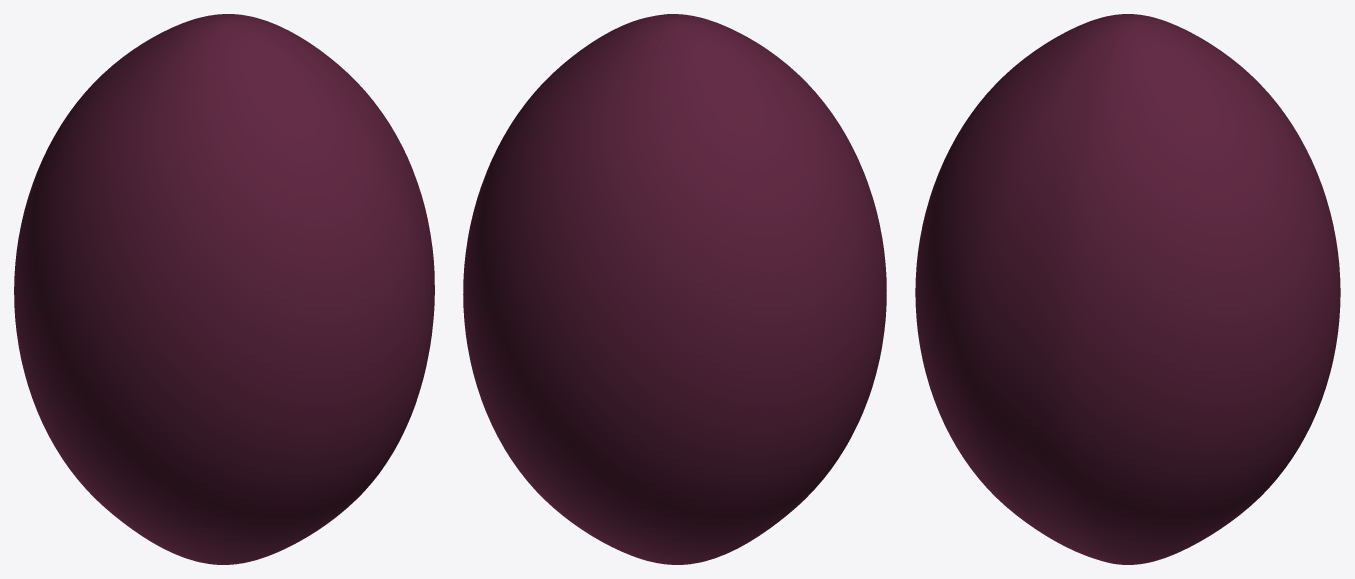
Rendered from egg.dae.
The picture shows the model from 3 angles, left to right: view 1: azimuth 30°, elevation 25°; view 2: azimuth 150°, elevation 25°; view 3: azimuth 270°, elevation 25°; orthographic projection.
Visible parts, largest first — view 1: egg; view 2: egg; view 3: egg.
Boxes of the visible parts, box(x1,y1,x2,y2) form: egg: box(14, 14, 434, 564); egg: box(463, 14, 886, 564); egg: box(915, 14, 1340, 564).
Size of the model in its own units: 1.24 by 1.74 by 1.25.
